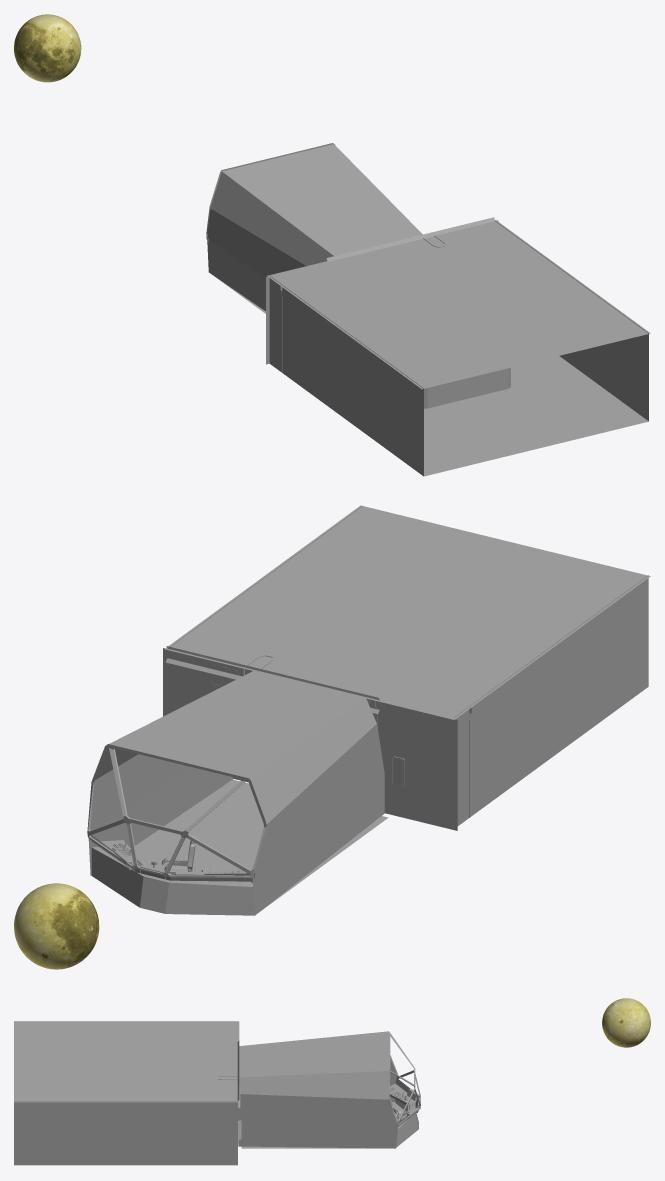
The picture shows the model from 3 angles, top to bottom: view 1: azimuth 30°, elevation 25°; view 2: azimuth 150°, elevation 25°; view 3: azimuth 270°, elevation 25°; orthographic projection. The views are drawn at different scales.
Parts seen in each view (by area): view 1: BG, Moon_geo; view 2: BG, Moon_geo; view 3: BG, Moon_geo.
Part boxes in pixels (x1=…): BG: x1=206, y1=143, x2=650, y2=476; Moon_geo: x1=14, y1=14, x2=81, y2=82; BG: x1=87, y1=505, x2=650, y2=915; Moon_geo: x1=14, y1=883, x2=99, y2=969; BG: x1=14, y1=1021, x2=420, y2=1165; Moon_geo: x1=602, y1=998, x2=650, y2=1047.
Bounding box in the file's own units: 832 × 478 × 2719.
